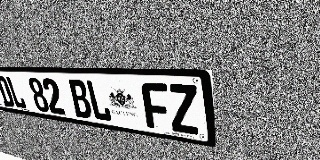2: (41, 78, 65, 115)
8: (27, 77, 50, 113)
B: (67, 79, 93, 119)
D: (0, 76, 15, 108)
F: (140, 82, 172, 131)
L: (85, 80, 113, 122), (5, 76, 27, 109)
Z: (167, 84, 200, 135)
